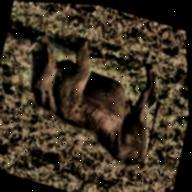boar: (0, 21, 188, 192)
